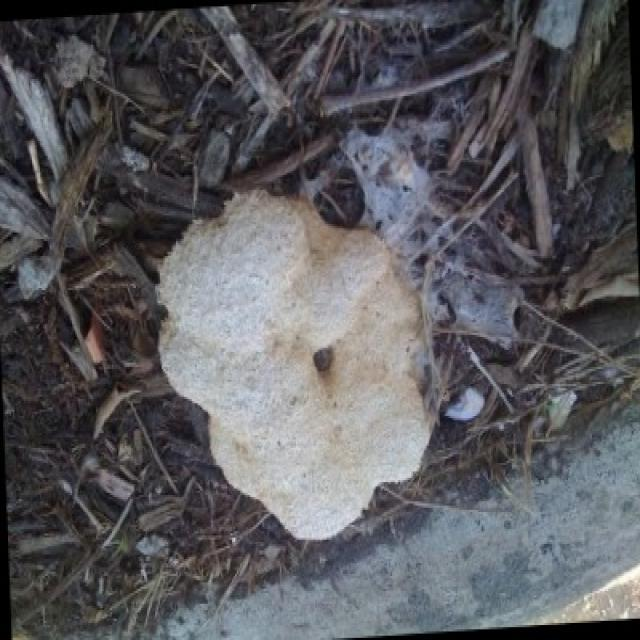Dog_vomit_slime_mold: (145, 168, 456, 563)
